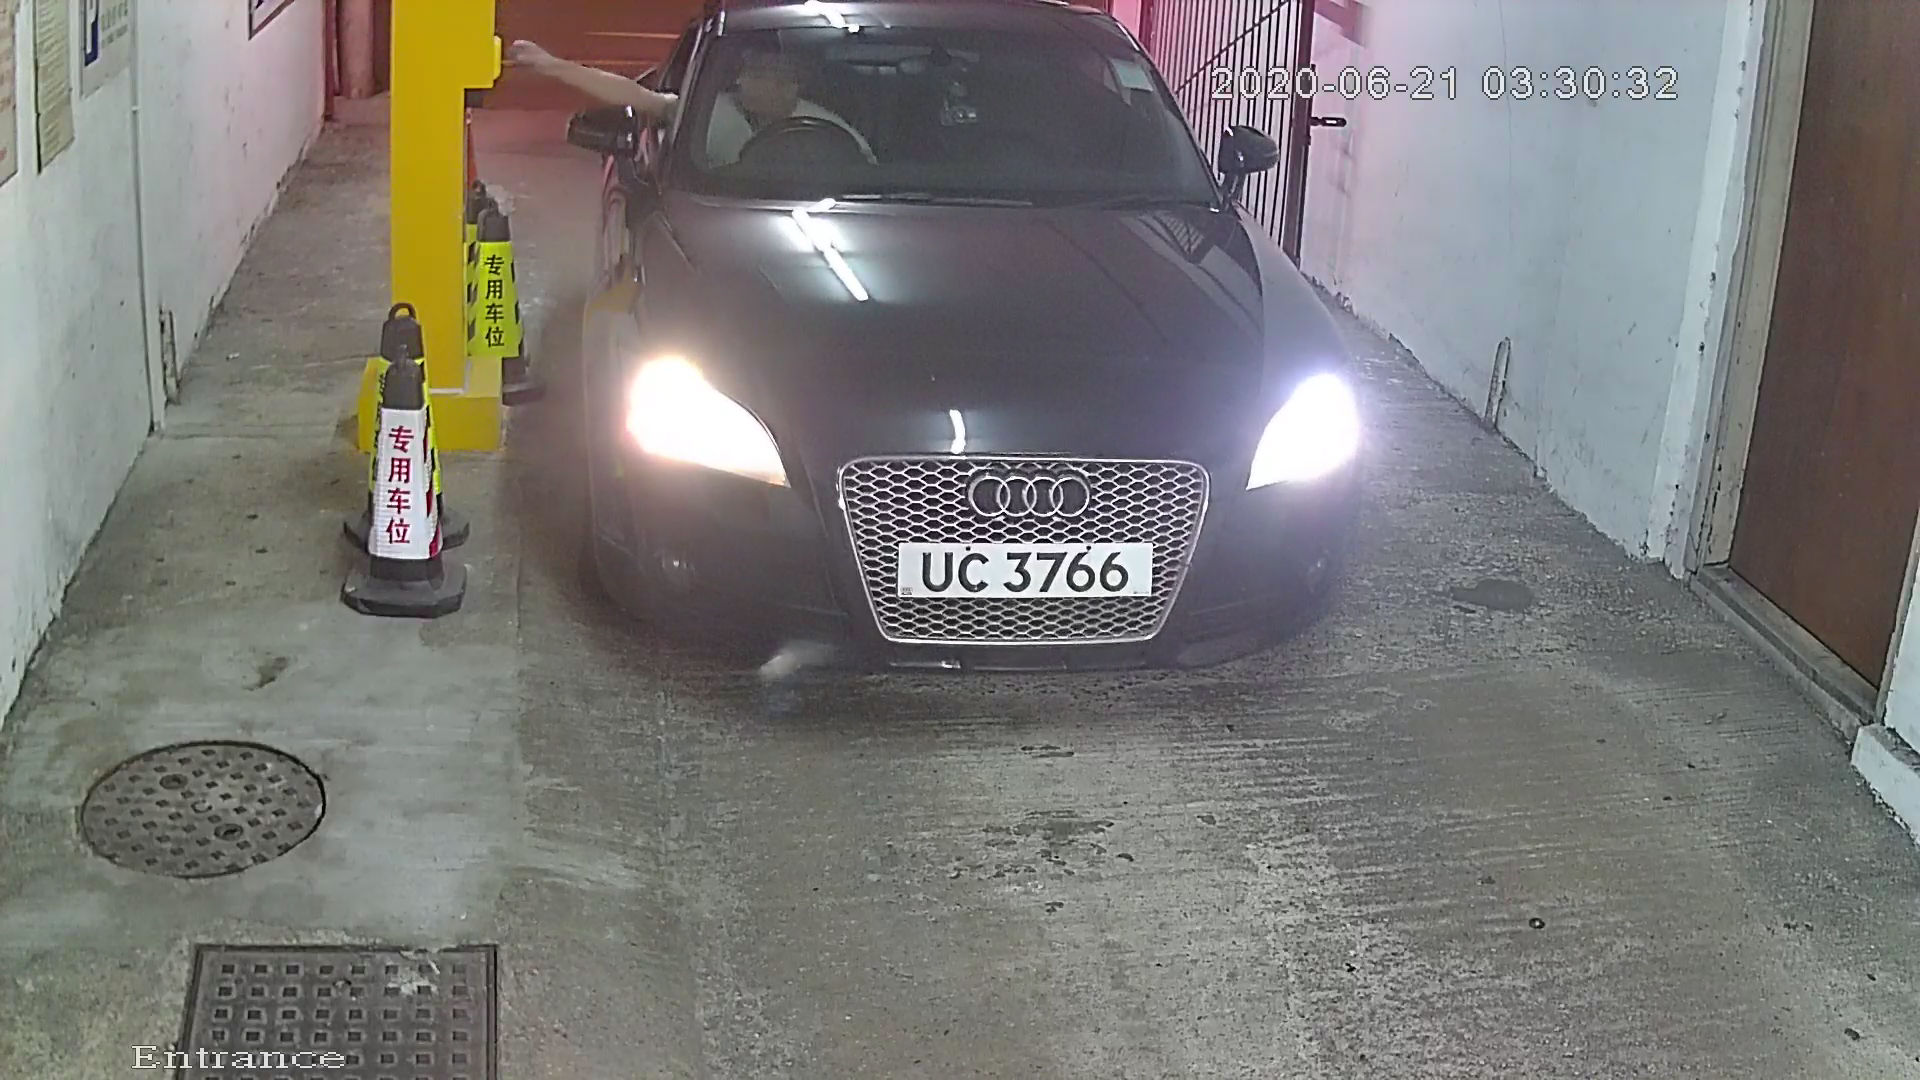privatecar: (597, 3, 1424, 732)
